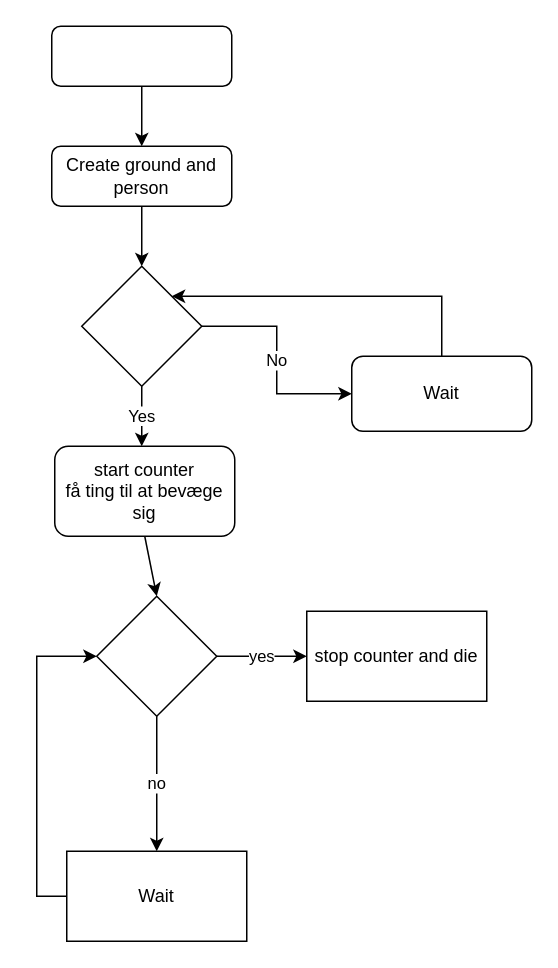
Some shapes in this 558 by 968 pixel diagram are drawn without their labels. Here are the shapes that lost their labels. From the top down, the centre of each, then its label:
the point at 141,55: Create background
the point at 141,325: "Start" pressed
the point at 156,655: person hit ting
